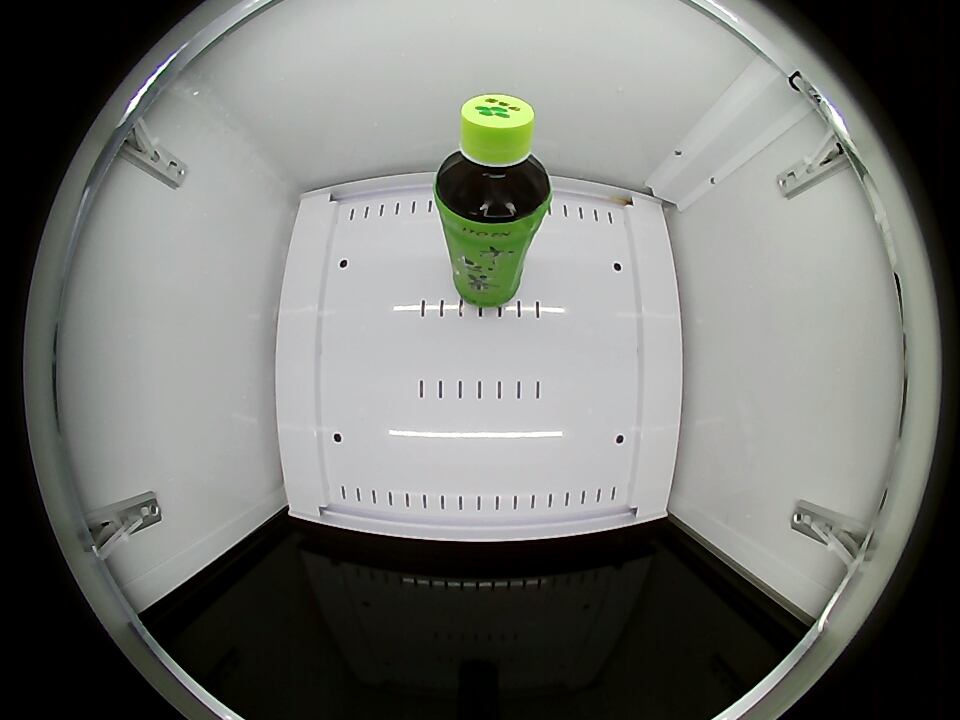yitengyuan: (434, 94, 550, 229)
